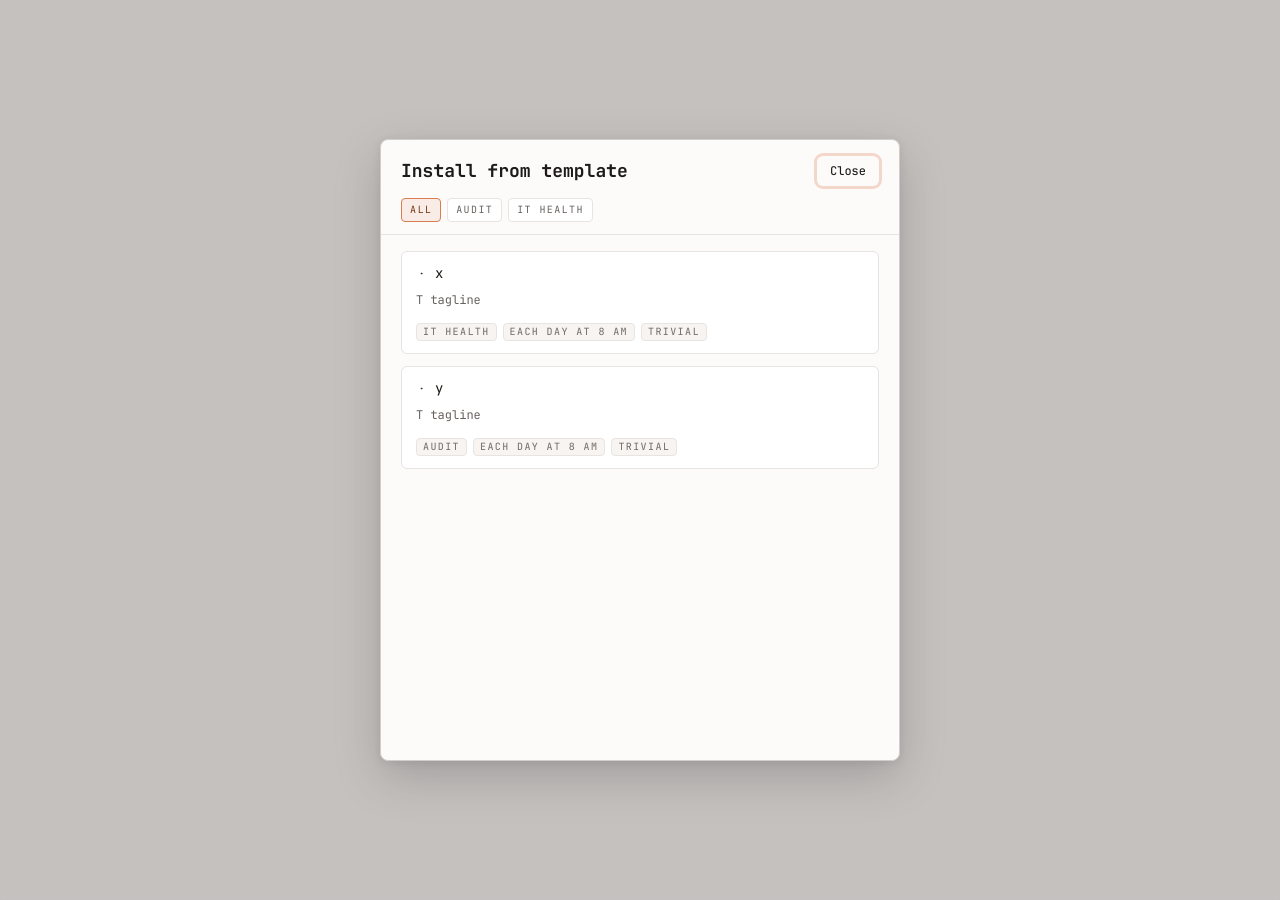
Test: TemplateGallery — category filtering › renders 'No templates in this category' when the active filter has zero matches
This screenshot has width=1280, height=900.
Expected: the text "x" is shown, [435,264,443,284]
Click the button "Audit". click: click(475, 210)
box: [447,198,502,222]
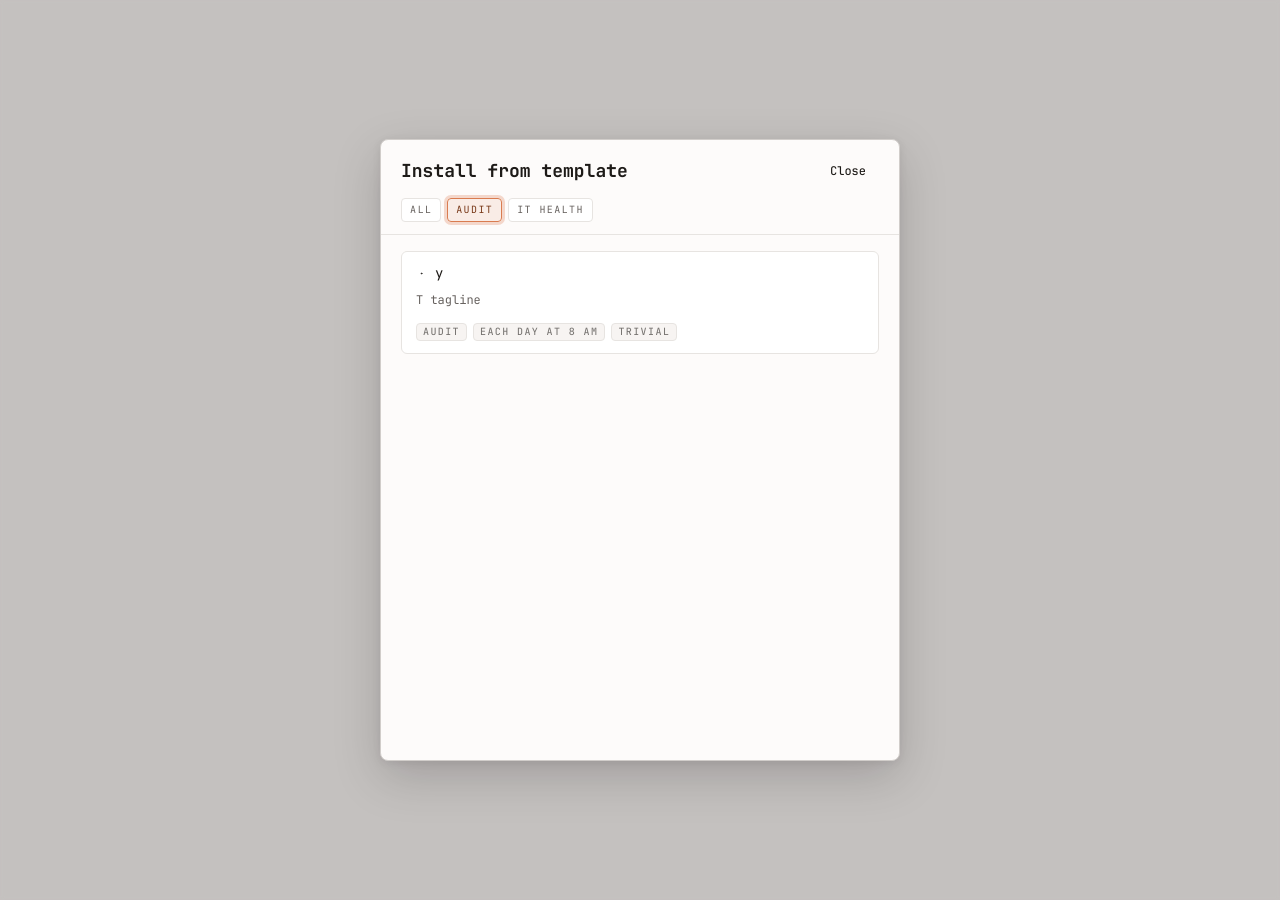
Expected: the text "y" is shown, [435,264,443,284]
Result: the button "x" is gone
